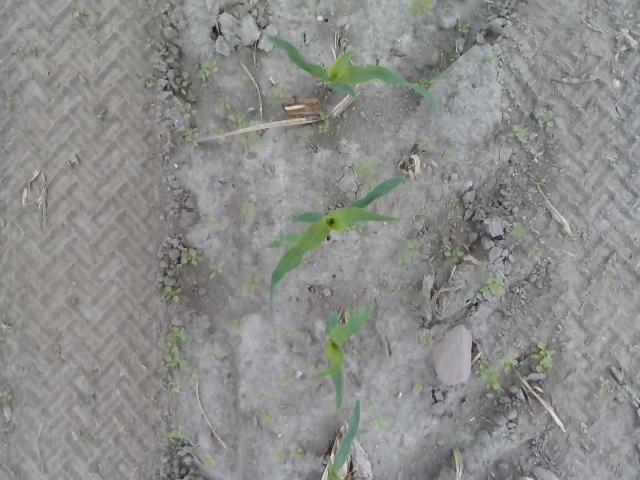Maize: (267, 174, 405, 314), (262, 31, 444, 116), (312, 295, 374, 412), (322, 400, 362, 480)
Weeds: (157, 324, 199, 396), (472, 354, 518, 392), (160, 244, 206, 272), (350, 158, 382, 192), (470, 269, 504, 296), (533, 336, 556, 373), (274, 444, 308, 467), (398, 238, 423, 267), (369, 410, 396, 434), (267, 326, 294, 350), (170, 74, 193, 96), (160, 284, 183, 306), (316, 110, 334, 138), (163, 424, 188, 443), (227, 110, 247, 130), (410, 0, 435, 16), (511, 123, 530, 144), (134, 70, 156, 88), (242, 271, 260, 293), (258, 407, 276, 429), (274, 369, 296, 387), (198, 63, 226, 77), (208, 261, 228, 280), (182, 126, 200, 146), (238, 200, 257, 218), (512, 221, 529, 241), (416, 134, 434, 152), (217, 94, 234, 112), (537, 110, 554, 128), (228, 315, 246, 332), (436, 248, 466, 258), (228, 72, 250, 85), (479, 49, 498, 64), (200, 454, 216, 470), (418, 76, 436, 90), (271, 87, 291, 99), (206, 214, 220, 231), (180, 102, 194, 119), (556, 230, 574, 243), (8, 40, 24, 54), (241, 133, 258, 146), (417, 333, 434, 346), (0, 386, 12, 404), (454, 22, 468, 35), (444, 150, 458, 163), (410, 382, 424, 395), (364, 396, 379, 408), (410, 206, 426, 216), (597, 376, 610, 388), (390, 283, 401, 297), (210, 124, 223, 135), (206, 349, 217, 362), (526, 248, 538, 259), (532, 178, 544, 188), (604, 452, 616, 462), (176, 473, 192, 480), (446, 211, 456, 222), (448, 197, 458, 207), (312, 196, 321, 205), (602, 270, 610, 280), (503, 472, 513, 480), (73, 8, 81, 18), (451, 88, 458, 98), (288, 206, 296, 214)
